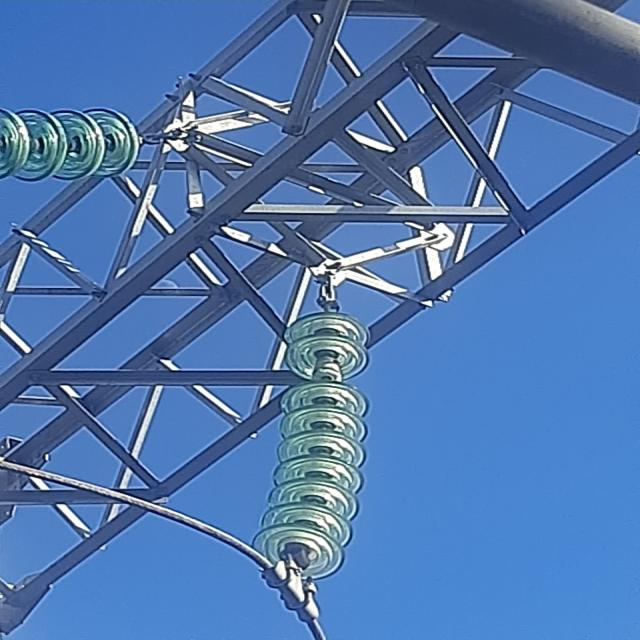杆塔: (0, 0, 640, 640)
正常绝缘子: (266, 307, 371, 580), (0, 102, 151, 187)
绝缘子破损: (309, 360, 345, 380)
